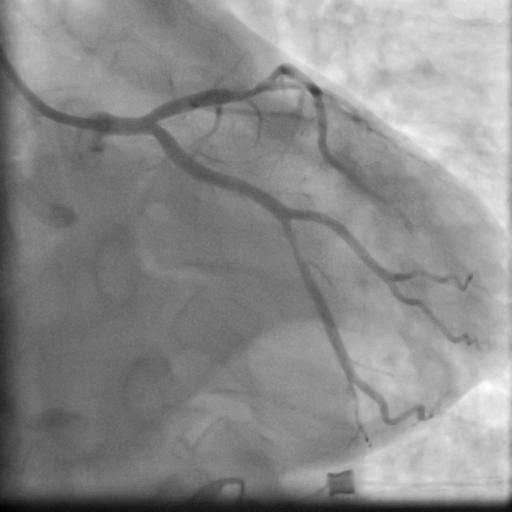Stenosis: (285, 229, 308, 281)
